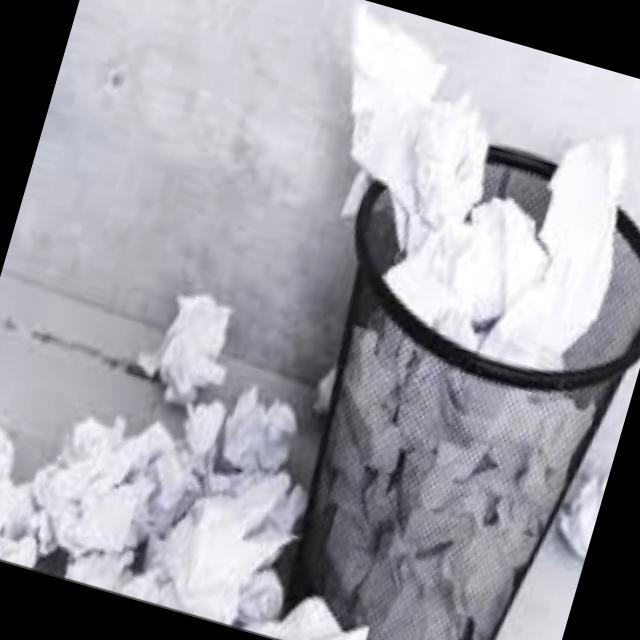KertasBekas: (178, 0, 640, 640), (0, 236, 441, 640)
